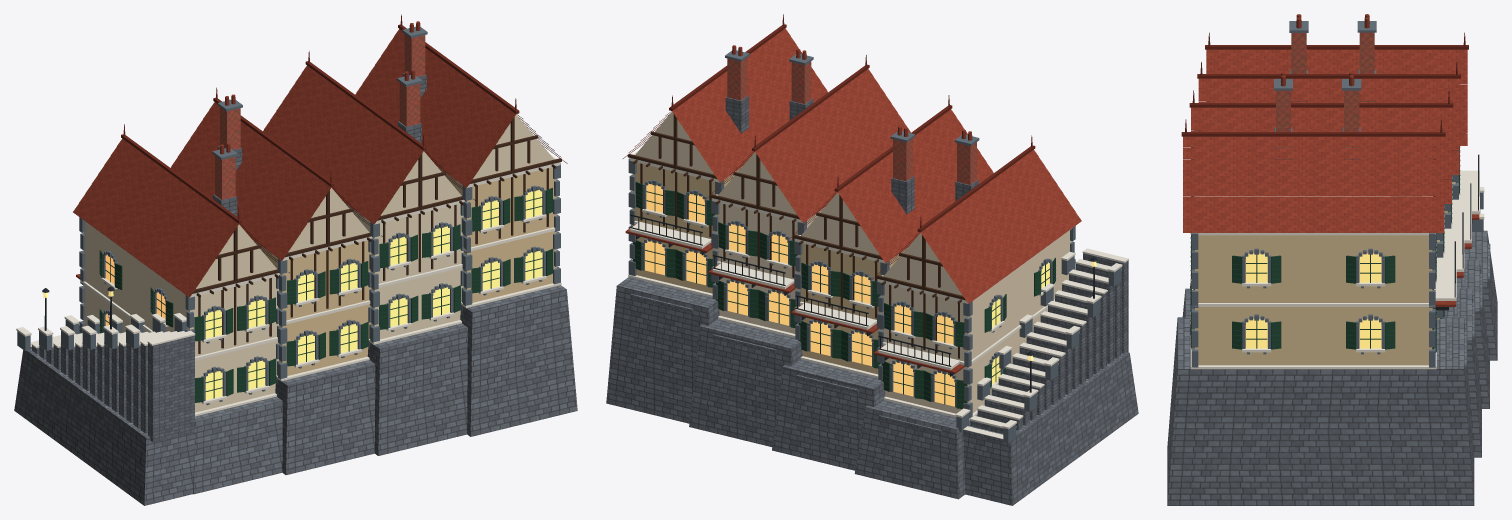
The model's file is fv_hb_07_tang_bat_ho_doc_song_lo_stepped_villas.glb.
The picture shows the model from 3 angles, left to right: view 1: azimuth 30°, elevation 25°; view 2: azimuth 150°, elevation 25°; view 3: azimuth 270°, elevation 25°; orthographic projection. The views are drawn at different scales.
Visible parts, largest first — view 1: Foundation_Skirt_Neg3p5m, Stepped_Normandy_Brittany_Roof, Shophouse_Stucco_Primary, Stone_Quoins_And_Arches, Shophouse_Stucco_Accent, PineGreen_Louvered_Shutters, Molded_Cornices_And_Sills, Warm_Night_Windows_20h00_Blend, Exposed_Timber_Trusses_And_Rafters, Roof_Ridges_Caps_And_Finials, Brick_Chimney_Stacks; view 2: Foundation_Skirt_Neg3p5m, Stepped_Normandy_Brittany_Roof, Shophouse_Stucco_Primary, Molded_Cornices_And_Sills, Stone_Quoins_And_Arches, PineGreen_Louvered_Shutters, Warm_Night_Windows_20h00_Blend, Exposed_Timber_Trusses_And_Rafters, Shophouse_Stucco_Accent, Roof_Ridges_Caps_And_Finials, Brick_Chimney_Stacks, Wrought_Iron_Balustrades_And_Lamps (+1 smaller); view 3: Foundation_Skirt_Neg3p5m, Stepped_Normandy_Brittany_Roof, Shophouse_Stucco_Accent, Molded_Cornices_And_Sills, Roof_Ridges_Caps_And_Finials, Stone_Quoins_And_Arches, PineGreen_Louvered_Shutters, Brick_Chimney_Stacks, Warm_Night_Windows_20h00_Blend, Wrought_Iron_Balustrades_And_Lamps.
Part boxes in pixels (left/top/right/bottom): Foundation_Skirt_Neg3p5m: left=14, top=73, right=577, bottom=505; Stepped_Normandy_Brittany_Roof: left=73, top=21, right=515, bottom=297; Shophouse_Stucco_Primary: left=83, top=114, right=554, bottom=412; Stone_Quoins_And_Arches: left=17, top=26, right=560, bottom=405; Shophouse_Stucco_Accent: left=255, top=167, right=556, bottom=375; PineGreen_Louvered_Shutters: left=99, top=187, right=553, bottom=402; Molded_Cornices_And_Sills: left=16, top=155, right=561, bottom=416; Warm_Night_Windows_20h00_Blend: left=43, top=190, right=542, bottom=400; Exposed_Timber_Trusses_And_Rafters: left=192, top=117, right=561, bottom=353; Roof_Ridges_Caps_And_Finials: left=121, top=14, right=567, bottom=272; Brick_Chimney_Stacks: left=215, top=34, right=425, bottom=199; Foundation_Skirt_Neg3p5m: left=606, top=95, right=1138, bottom=505; Stepped_Normandy_Brittany_Roof: left=625, top=28, right=1081, bottom=373; Shophouse_Stucco_Primary: left=635, top=111, right=1071, bottom=413; Molded_Cornices_And_Sills: left=628, top=150, right=1128, bottom=438; Stone_Quoins_And_Arches: left=628, top=50, right=1121, bottom=443; PineGreen_Louvered_Shutters: left=633, top=181, right=1056, bottom=408; Warm_Night_Windows_20h00_Blend: left=645, top=183, right=1096, bottom=406; Exposed_Timber_Trusses_And_Rafters: left=627, top=114, right=965, bottom=358; Shophouse_Stucco_Accent: left=633, top=162, right=904, bottom=374; Roof_Ridges_Caps_And_Finials: left=623, top=14, right=1035, bottom=280; Brick_Chimney_Stacks: left=727, top=58, right=976, bottom=184; Wrought_Iron_Balustrades_And_Lamps: left=630, top=214, right=1097, bottom=392; Foundation_Skirt_Neg3p5m: left=1167, top=69, right=1497, bottom=505; Stepped_Normandy_Brittany_Roof: left=1183, top=14, right=1479, bottom=306; Shophouse_Stucco_Accent: left=1195, top=206, right=1447, bottom=365; Molded_Cornices_And_Sills: left=1190, top=157, right=1484, bottom=369; Roof_Ridges_Caps_And_Finials: left=1181, top=32, right=1468, bottom=136; Stone_Quoins_And_Arches: left=1191, top=21, right=1483, bottom=367; PineGreen_Louvered_Shutters: left=1190, top=146, right=1460, bottom=352; Brick_Chimney_Stacks: left=1276, top=32, right=1374, bottom=131; Warm_Night_Windows_20h00_Blend: left=1246, top=253, right=1381, bottom=348; Wrought_Iron_Balustrades_And_Lamps: left=1433, top=154, right=1479, bottom=310.
Bounding box in the file's own units: 26.62 × 20.9 × 16.14.
Materials: 13 (3 with a texture image).
